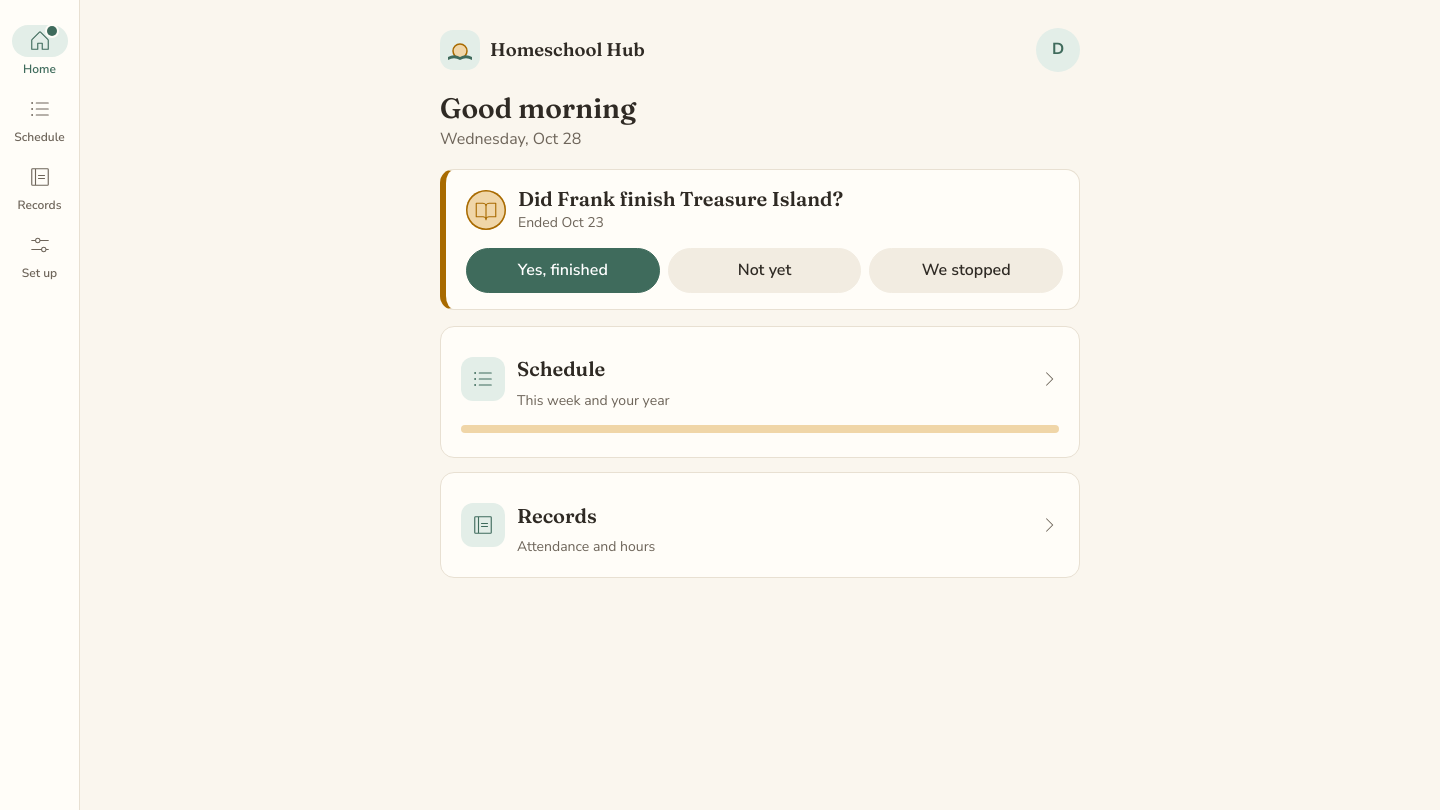
Test: the completion question on Home (S12-03) › Undo is offered after an answer (the PATCH is an undoable plan change)
Click the button "Yes, finished".
click(563, 270)  # box [466,248,660,293]
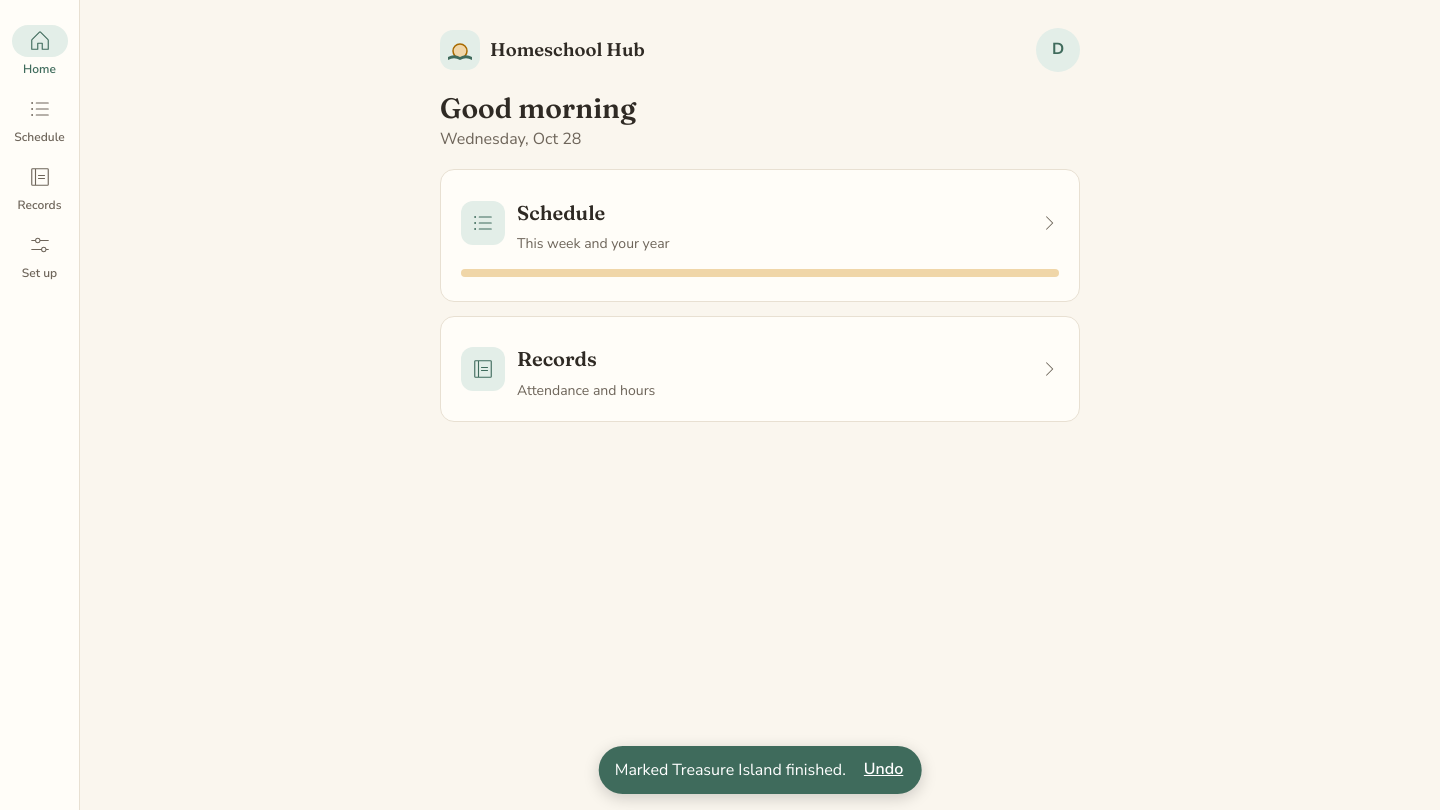
Now the text "Marked Treasure Island finished." is shown, box [615,756,846,784]
Now the button "Undo" is shown, box [850,748,917,792]
